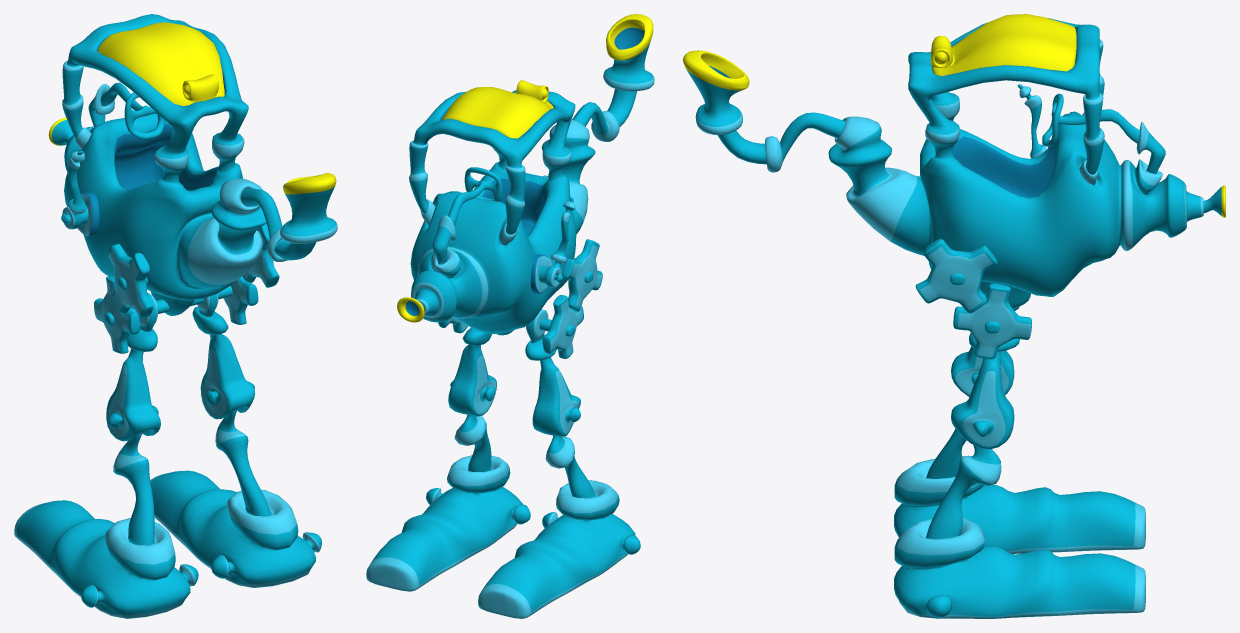
File: CrunkCar.gltf
3 views of the same model, side by side, from view 1: azimuth 30°, elevation 25°; view 2: azimuth 150°, elevation 25°; view 3: azimuth 270°, elevation 25° (orthographic). The views are drawn at different scales.
Bounding box in the file's own units: 33.38 × 69.96 × 63.51.
